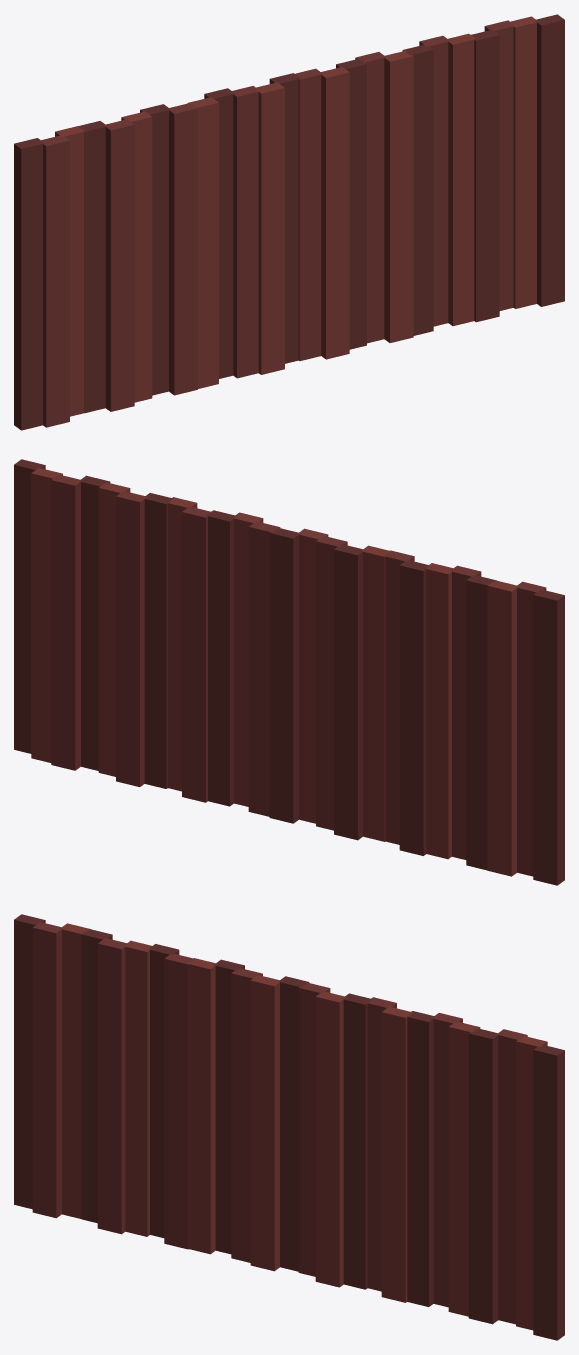
The model's file is stage_curtain.glb.
3 renders of one model, top to bottom at view 1: azimuth 30°, elevation 25°; view 2: azimuth 150°, elevation 25°; view 3: azimuth 330°, elevation 25°, orthographic.
Visible parts, largest first — view 1: stage_curtain; view 2: stage_curtain; view 3: stage_curtain.
Part boxes in pixels (<box>): stage_curtain: <box>14,14,564,430</box>; stage_curtain: <box>14,459,564,885</box>; stage_curtain: <box>14,914,564,1340</box>.
Bounding box in the file's own units: 5.02 × 2.5 × 0.2299.
